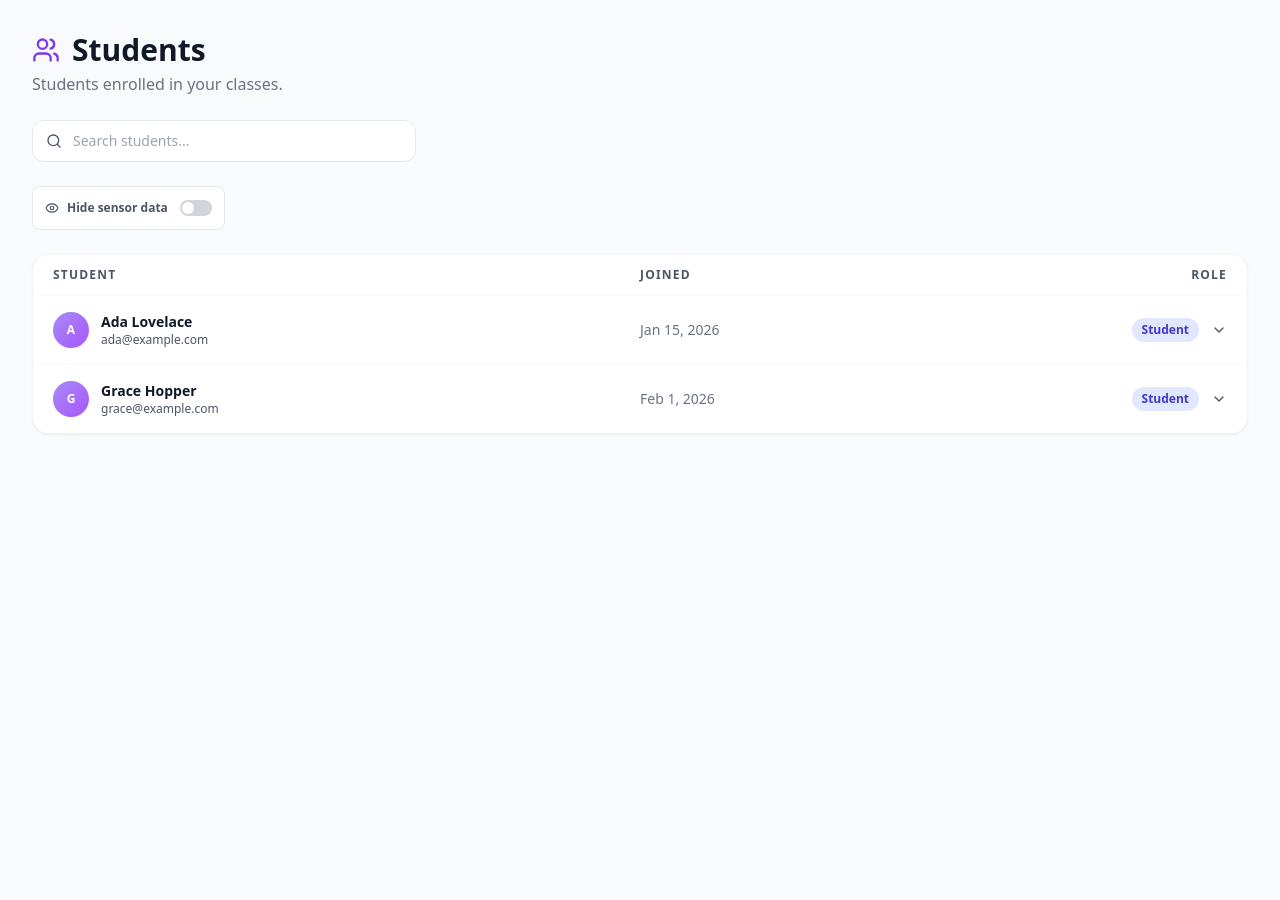
it: shows per-topic accuracy from the backend
Click the button "A Ada Lovelace ada@example.com Jan 15, 2026 Student": (640, 330) left=33, top=296, right=1247, bottom=364
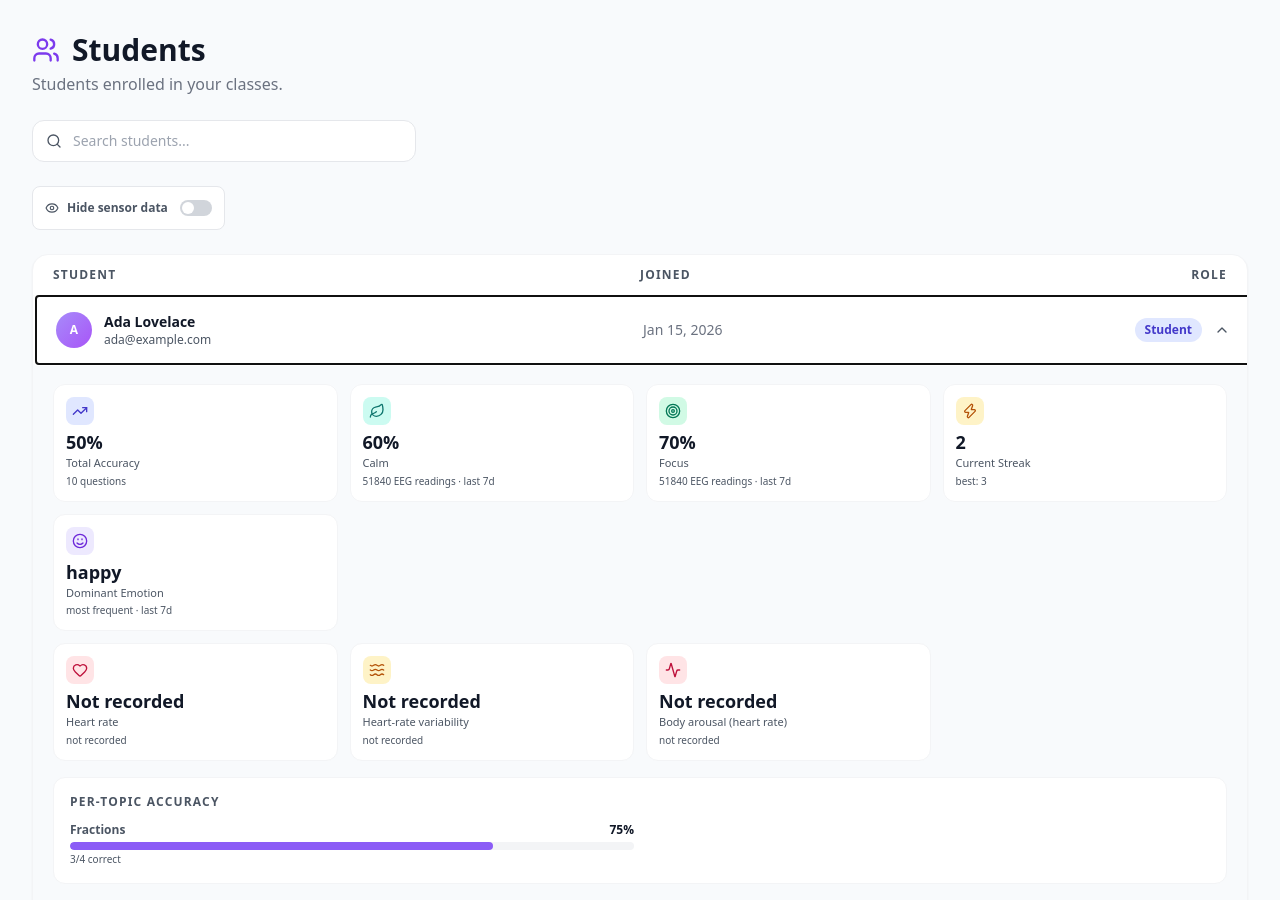
Check: the text "fractions" is shown, box left=70, top=822, right=125, bottom=838
Check: the text "3/4 correct" is shown, box left=70, top=852, right=121, bottom=866
